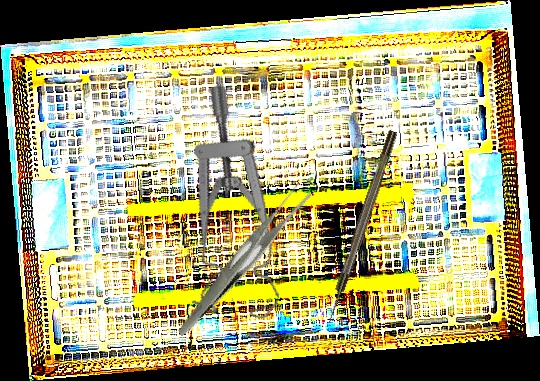Dressing Forceps: (144, 180, 340, 337)
Hook Surgical: (323, 129, 400, 324)
Speculum: (147, 80, 334, 334)
